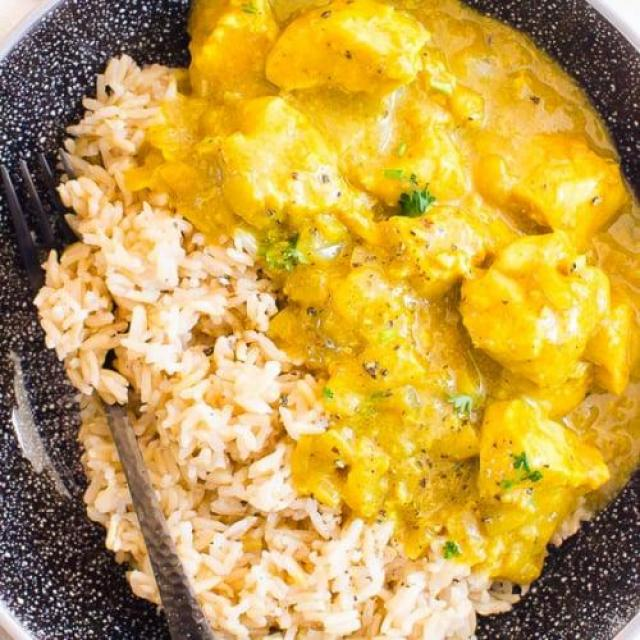chicken: (188, 0, 634, 543)
rice: (34, 80, 270, 632), (194, 537, 495, 630)
